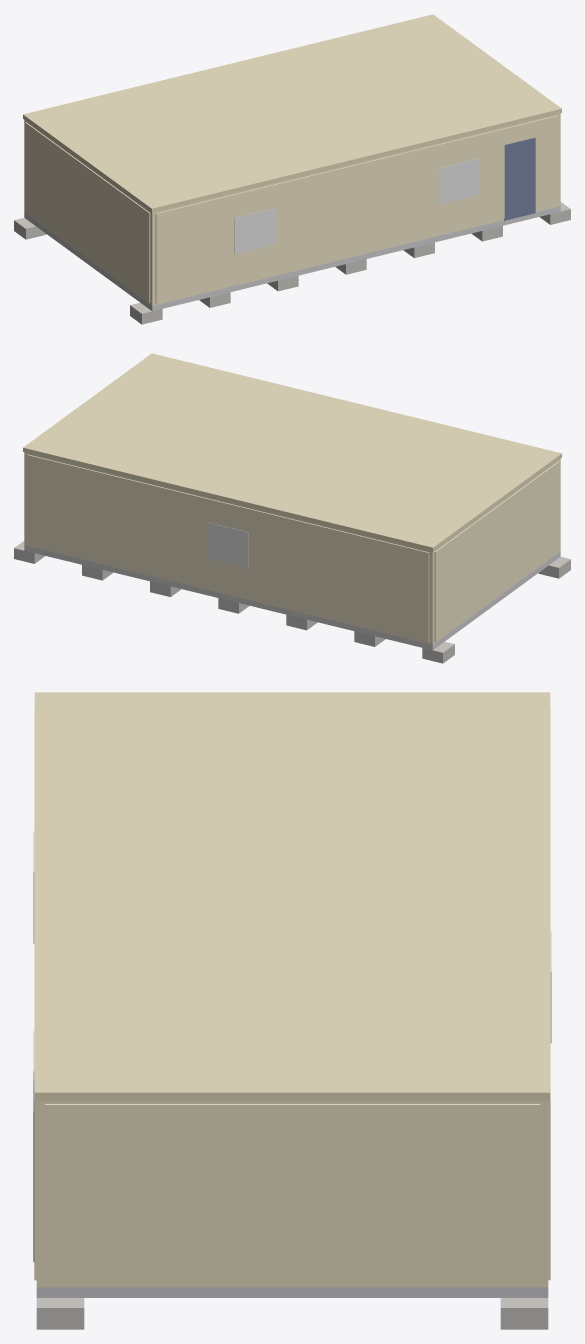
The model's file is Studio-40-Base-RiceYellow-LOD0.glb.
The picture shows the model from 3 angles, top to bottom: view 1: azimuth 30°, elevation 25°; view 2: azimuth 150°, elevation 25°; view 3: azimuth 270°, elevation 25°; orthographic projection. The views are drawn at different scales.
Visible parts, largest first — view 1: RoofMain, ExteriorPanelsStandard, BaseFrame, WindowsStandard, ExteriorShell, FoundationBlocks, EntryDoor; view 2: RoofMain, ExteriorPanelsStandard, BaseFrame, ExteriorShell, FoundationBlocks, WindowsStandard; view 3: RoofMain, ExteriorPanelsStandard, ExteriorShell, BaseFrame, FoundationBlocks.
Part boxes in pixels (left/top/right/bottom): RoofMain: left=23, top=14, right=561, bottom=212; ExteriorPanelsStandard: left=25, top=115, right=557, bottom=303; BaseFrame: left=24, top=206, right=560, bottom=311; WindowsStandard: left=234, top=158, right=479, bottom=254; ExteriorShell: left=24, top=113, right=560, bottom=305; FoundationBlocks: left=14, top=202, right=570, bottom=324; EntryDoor: left=504, top=137, right=535, bottom=220; RoofMain: left=23, top=353, right=561, bottom=551; ExteriorPanelsStandard: left=27, top=454, right=559, bottom=642; BaseFrame: left=24, top=545, right=560, bottom=650; ExteriorShell: left=24, top=452, right=560, bottom=644; FoundationBlocks: left=14, top=541, right=570, bottom=663; WindowsStandard: left=207, top=522, right=248, bottom=568; RoofMain: left=34, top=692, right=550, bottom=1101; ExteriorPanelsStandard: left=34, top=709, right=550, bottom=1284; ExteriorShell: left=36, top=1101, right=548, bottom=1287; BaseFrame: left=36, top=1287, right=548, bottom=1297; FoundationBlocks: left=36, top=1298, right=548, bottom=1329.
Size of the model in its own units: 12.49 by 3.17 by 6.53.
